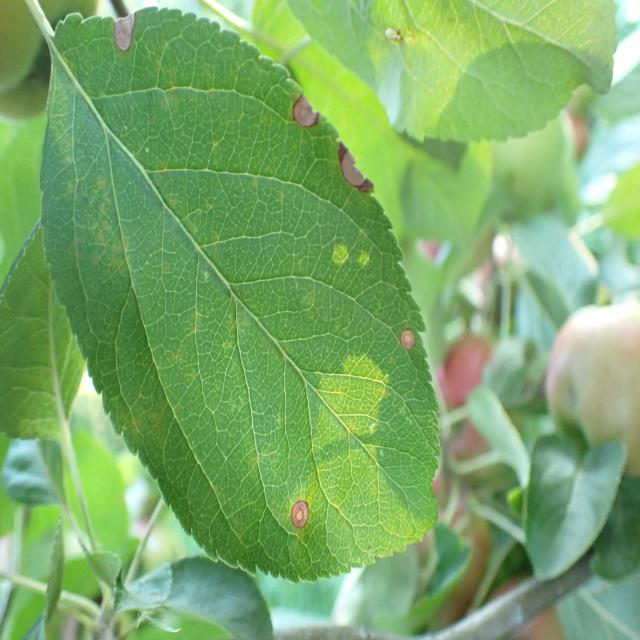Black Rot: (330, 113, 392, 214), (95, 6, 158, 81), (392, 308, 431, 385), (288, 75, 319, 149), (286, 491, 316, 535)
